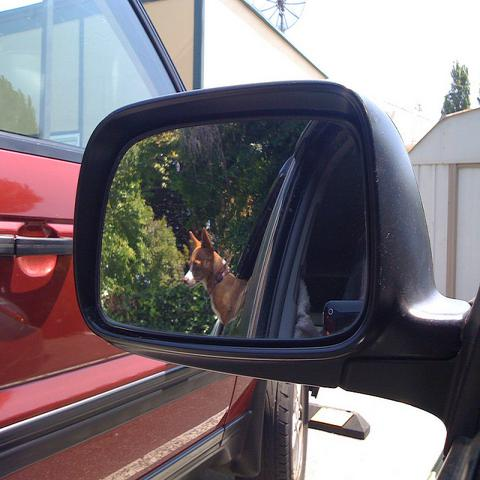car: (0, 0, 310, 475)
